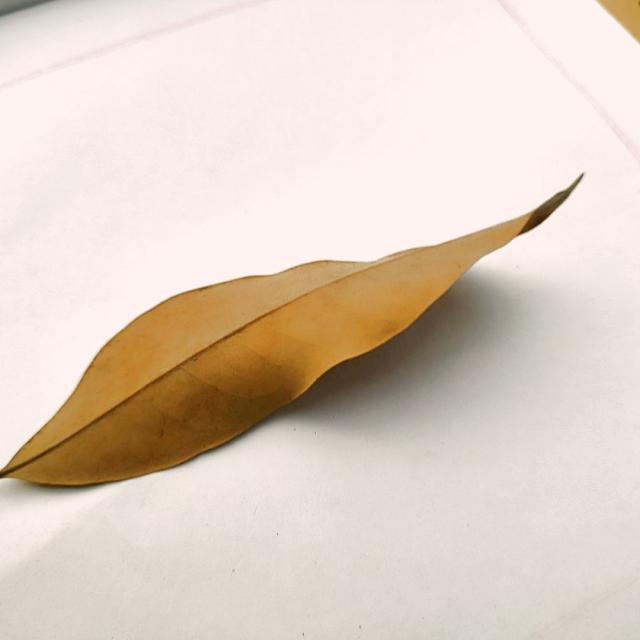Dry_Leaf-Lychee: (0, 178, 584, 490)
